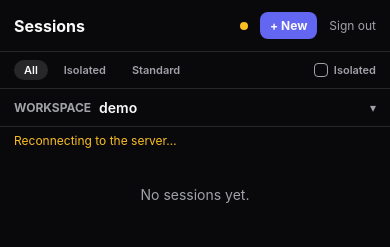
Scenario: App — sessions › banners a failed session creation
Expected: the text "Sessions" is shown, [14, 16, 85, 36]
Click the text "+ New".
click(289, 26)  # box [270, 18, 307, 33]
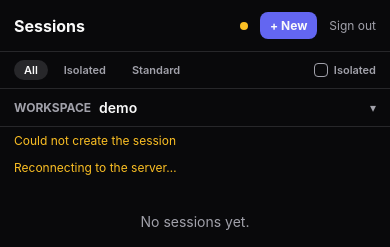
Result: the text "Could not create the session" is shown at [14, 133, 176, 148]
